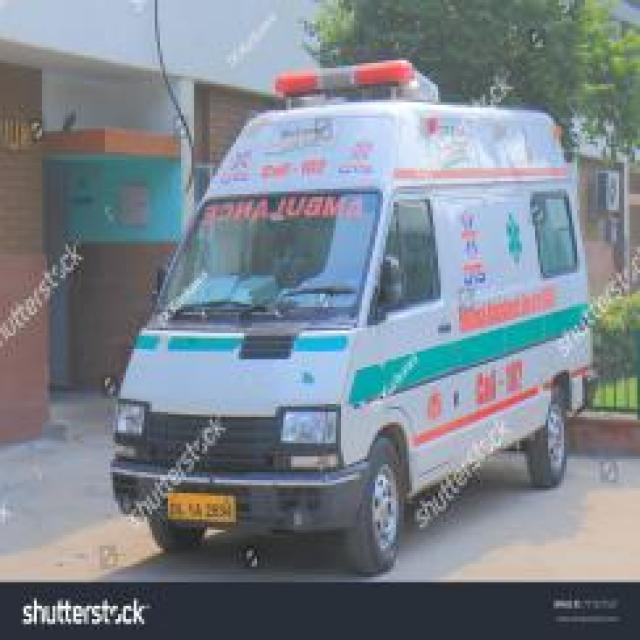Ambulance: (0, 39, 637, 579), (0, 388, 637, 582)
